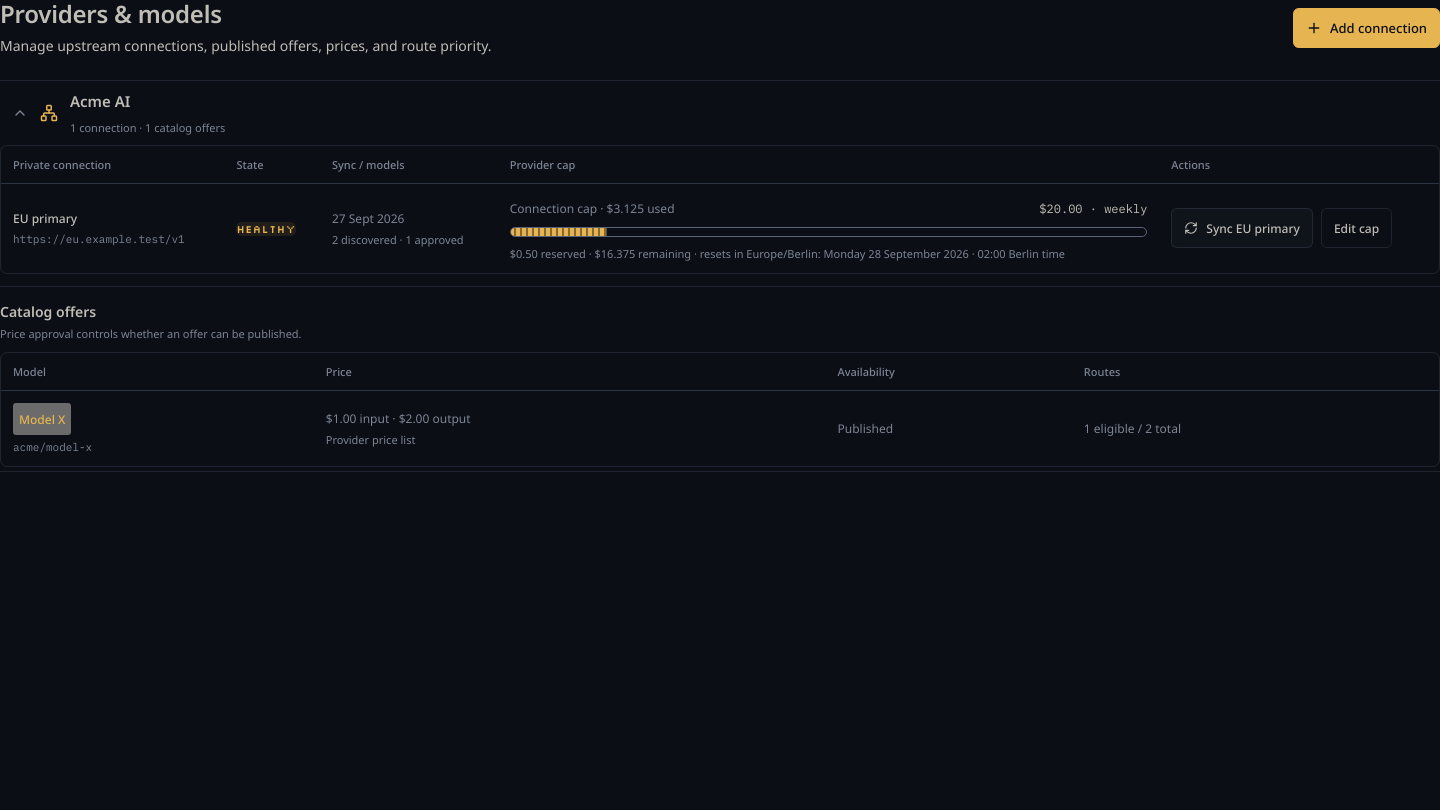
it: Task 8 operator interface › blocks_mismatched_fallback_with_reason
Step 1. Click the button "Model X" → (42, 419), box [13,403,71,435]
(page scrolled)
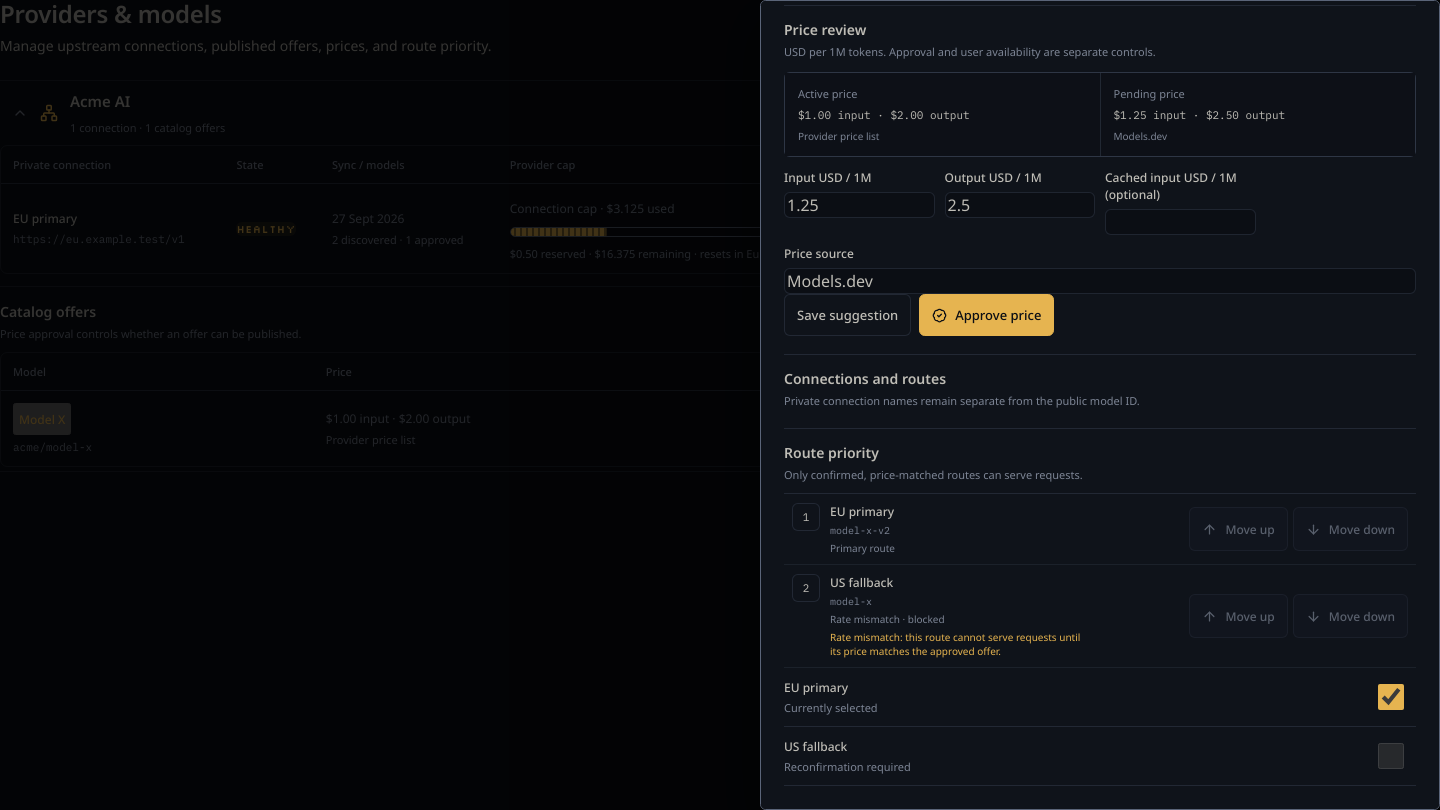
Result: the text "Rate mismatch · blocked" is shown at [830,612,944,626]
Result: the text "cannot serve requests until its price matches the approved offer" is shown at [830,630,1080,658]
Result: the button with aria-label "Move US fallback up" is disabled at [1189,594,1288,638]
